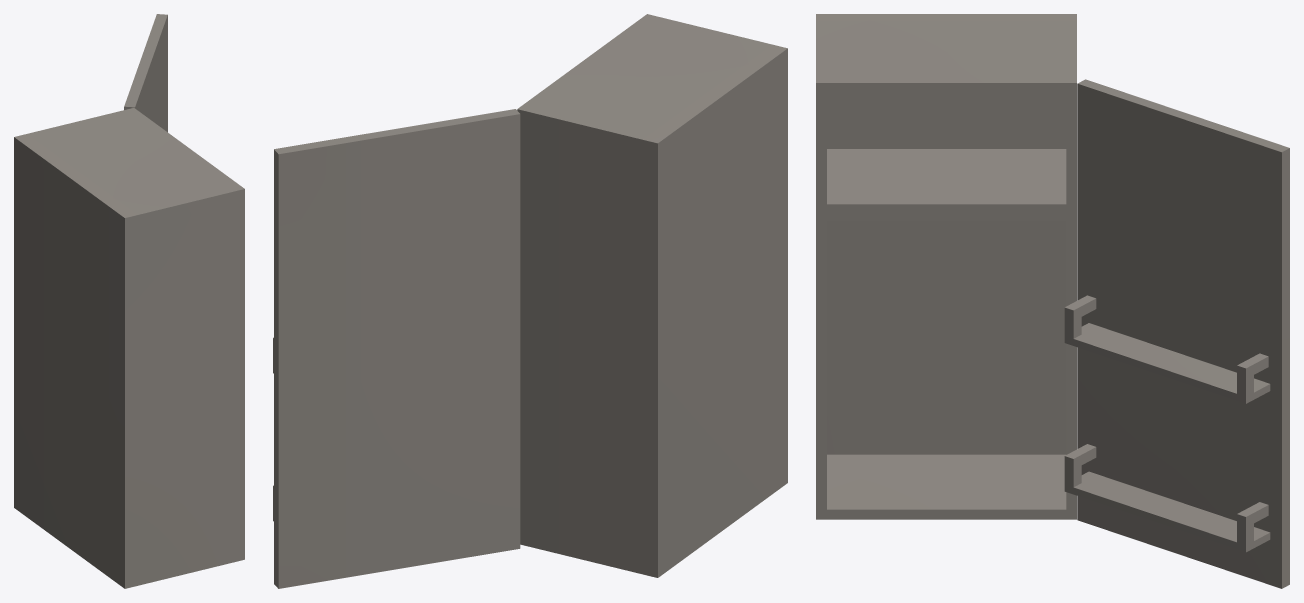
Rendered from FREZZER.fbx.
3 views of the same model, side by side, from view 1: azimuth 30°, elevation 25°; view 2: azimuth 150°, elevation 25°; view 3: azimuth 270°, elevation 25° (orthographic). The views are drawn at different scales.
Visible parts, largest first — view 1: Mesh; view 2: Mesh; view 3: Mesh.
Part boxes in pixels (x1,y1,x2,y2): Mesh: (14, 14, 244, 588); Mesh: (273, 14, 787, 588); Mesh: (816, 14, 1289, 588).
Size of the model in its own units: 134 by 184 by 181.
